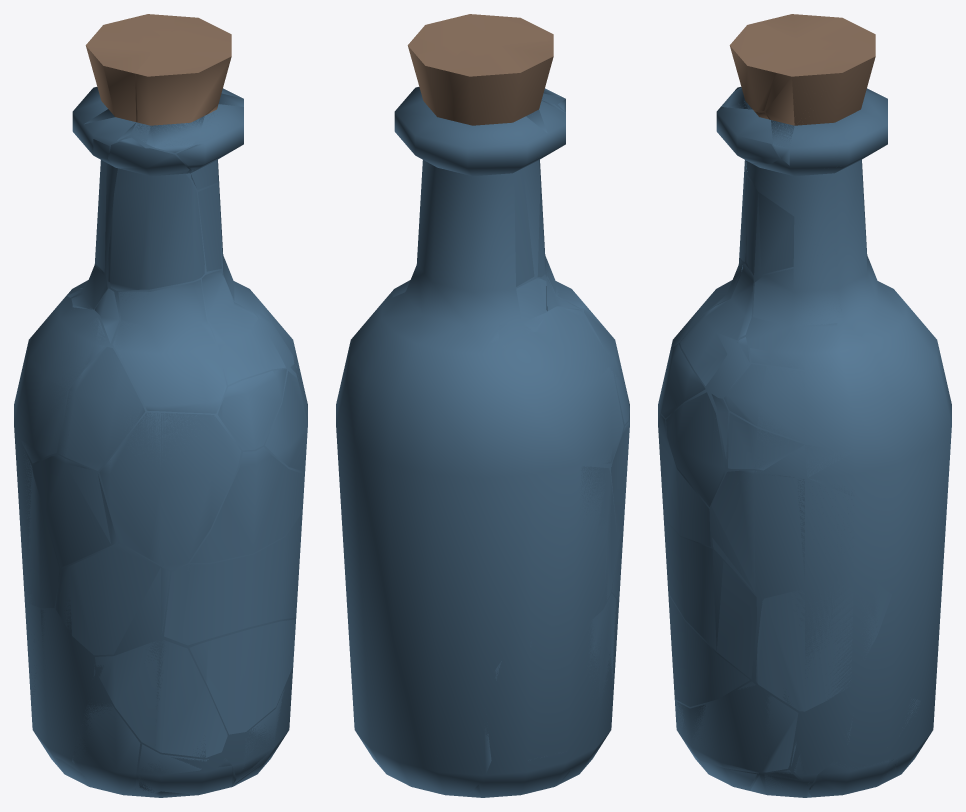
The model's file is bottle_C_broke.fbx.
3 views of the same model, side by side, from view 1: azimuth 30°, elevation 25°; view 2: azimuth 150°, elevation 25°; view 3: azimuth 270°, elevation 25° (orthographic).
Visible parts, largest first — view 1: obj_bottle_C, obj_bottle_C_cell.090, obj_bottle_C_cell.007, obj_bottle_C_cell.019, obj_bottle_C_cell.027, obj_bottle_C_cell.040, obj_bottle_C_cell.072, obj_bottle_C_cell.015, obj_bottle_C_cell.071, obj_bottle_C_cell.052, obj_bottle_C_cell.045, obj_bottle_C_cell.009 (+15 smaller); view 2: obj_bottle_C, obj_bottle_C_cell.085, obj_bottle_C_cell.092, obj_bottle_C_cell.036, obj_bottle_C_cell.082, obj_bottle_C_cell.053, obj_bottle_C_cell.050, obj_bottle_C_cell.009, obj_bottle_C_cell.052, obj_bottle_C_cell.007, obj_bottle_C_cell.019; view 3: obj_bottle_C, obj_bottle_C_cell.032, obj_bottle_C_cell.027, obj_bottle_C_cell.093, obj_bottle_C_cell.013, obj_bottle_C_cell.026, obj_bottle_C_cell.015, obj_bottle_C_cell.060, obj_bottle_C_cell.080, obj_bottle_C_cell.083, obj_bottle_C_cell.037, obj_bottle_C_cell.061 (+10 smaller).
Boxes of the visible parts, x1,y1,x2,y2 form: obj_bottle_C: (14, 14, 307, 797); obj_bottle_C_cell.090: (99, 412, 241, 570); obj_bottle_C_cell.007: (106, 137, 204, 290); obj_bottle_C_cell.019: (112, 279, 226, 413); obj_bottle_C_cell.027: (164, 513, 302, 645); obj_bottle_C_cell.040: (95, 640, 227, 757); obj_bottle_C_cell.072: (55, 544, 169, 655); obj_bottle_C_cell.015: (189, 619, 295, 734); obj_bottle_C_cell.071: (190, 447, 304, 562); obj_bottle_C_cell.052: (58, 347, 145, 470); obj_bottle_C_cell.045: (133, 56, 231, 152); obj_bottle_C_cell.009: (33, 455, 117, 567); obj_bottle_C: (336, 14, 629, 797); obj_bottle_C_cell.085: (444, 40, 565, 132); obj_bottle_C_cell.092: (580, 466, 617, 600); obj_bottle_C_cell.036: (589, 593, 616, 722); obj_bottle_C_cell.082: (514, 168, 534, 286); obj_bottle_C_cell.053: (564, 308, 623, 463); obj_bottle_C_cell.050: (499, 278, 546, 347); obj_bottle_C_cell.009: (611, 414, 629, 542); obj_bottle_C_cell.052: (584, 309, 629, 424); obj_bottle_C_cell.007: (537, 99, 565, 277); obj_bottle_C_cell.019: (545, 256, 590, 311); obj_bottle_C: (658, 22, 951, 797); obj_bottle_C_cell.032: (755, 577, 891, 711); obj_bottle_C_cell.027: (663, 519, 756, 679); obj_bottle_C_cell.093: (750, 268, 841, 372); obj_bottle_C_cell.013: (724, 364, 851, 449); obj_bottle_C_cell.026: (666, 392, 724, 506); obj_bottle_C_cell.015: (668, 595, 749, 706); obj_bottle_C_cell.060: (711, 470, 853, 593); obj_bottle_C_cell.080: (680, 263, 753, 385); obj_bottle_C_cell.083: (675, 681, 798, 773); obj_bottle_C_cell.037: (728, 413, 853, 495); obj_bottle_C_cell.061: (746, 177, 811, 275).
Bounding box in the file's own units: 37.39 × 97.57 × 36.82.
